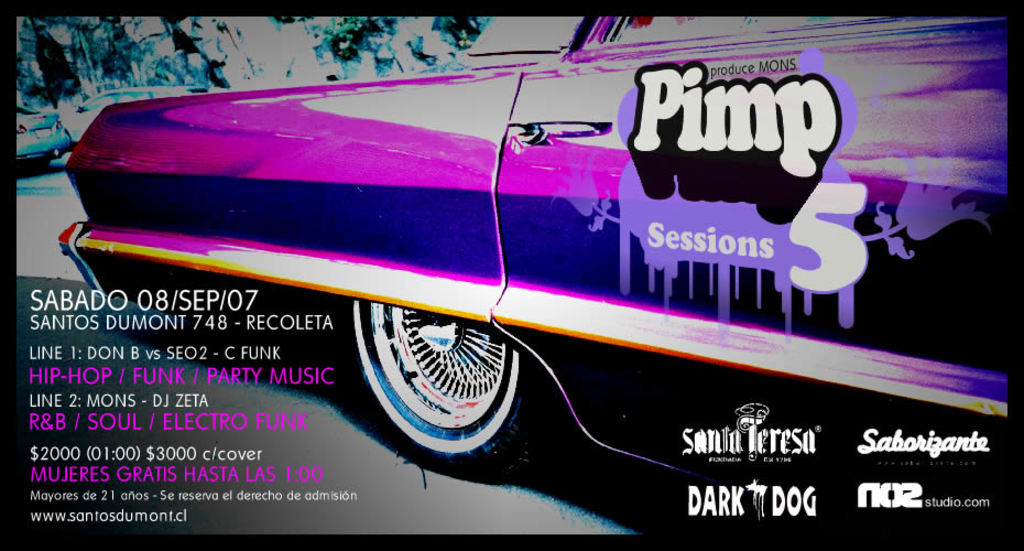Car: (57, 3, 1009, 478), (81, 87, 207, 125), (11, 107, 70, 168)
